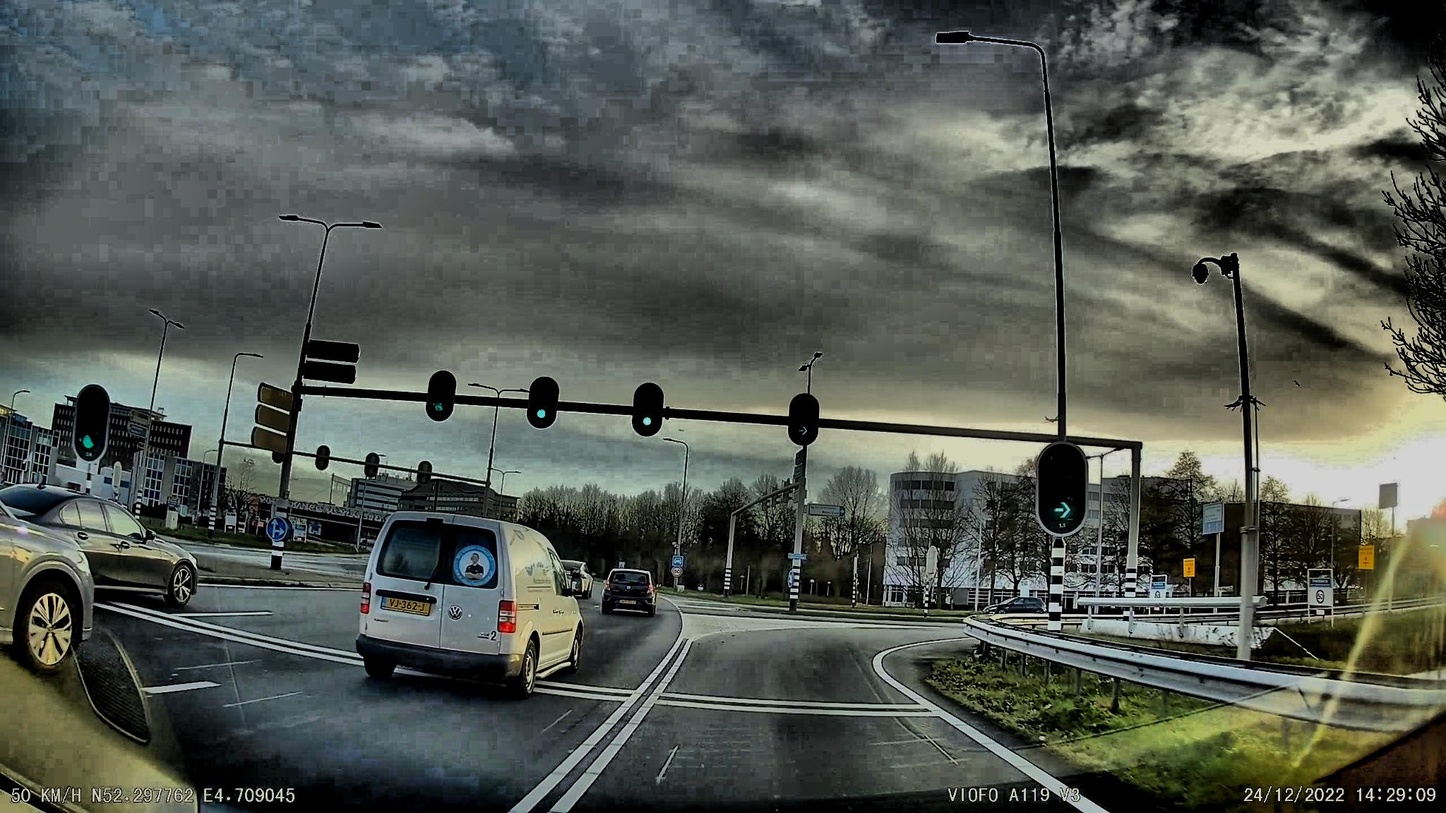Roads: (0, 582, 1149, 813)
